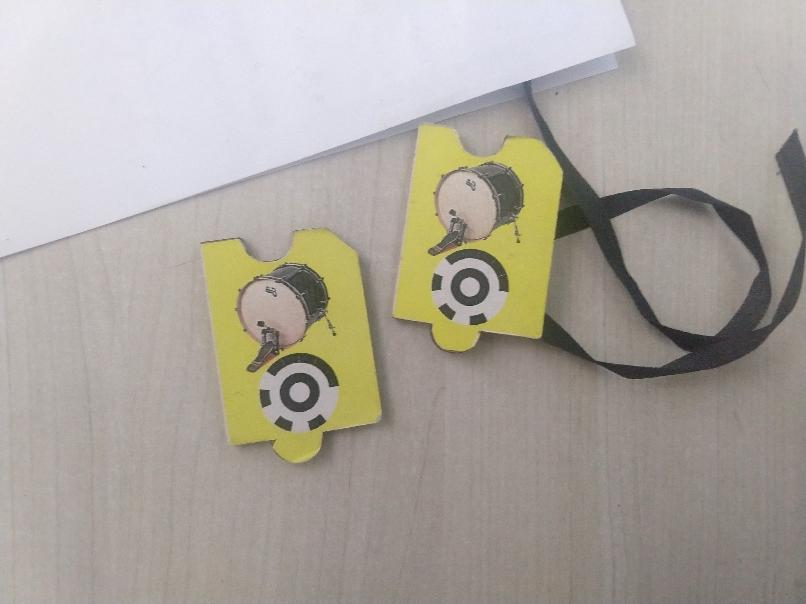bumbo: (203, 223, 381, 462), (391, 122, 566, 353)
